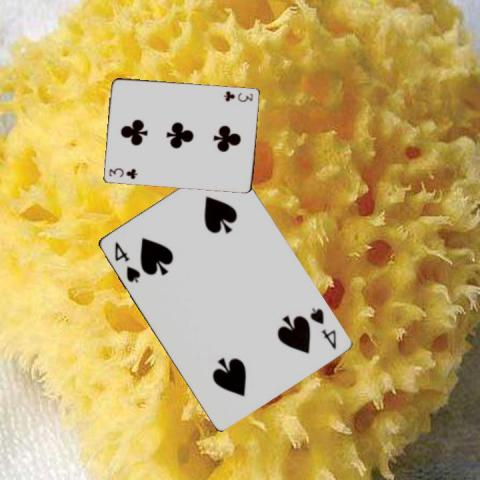3c: (221, 88, 255, 103), (106, 165, 139, 180)
4s: (306, 304, 337, 351), (111, 238, 142, 284)
